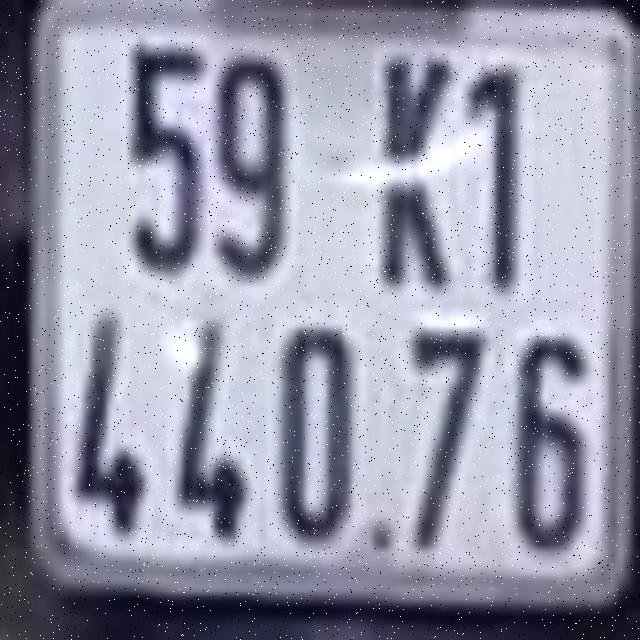0: (278, 324, 353, 541)
1: (465, 60, 529, 292)
4: (74, 311, 147, 538), (176, 318, 249, 542)
5: (128, 41, 204, 272)
6: (514, 329, 591, 553)
7: (406, 321, 486, 552)
9: (213, 51, 286, 279)
K: (380, 51, 453, 292)
